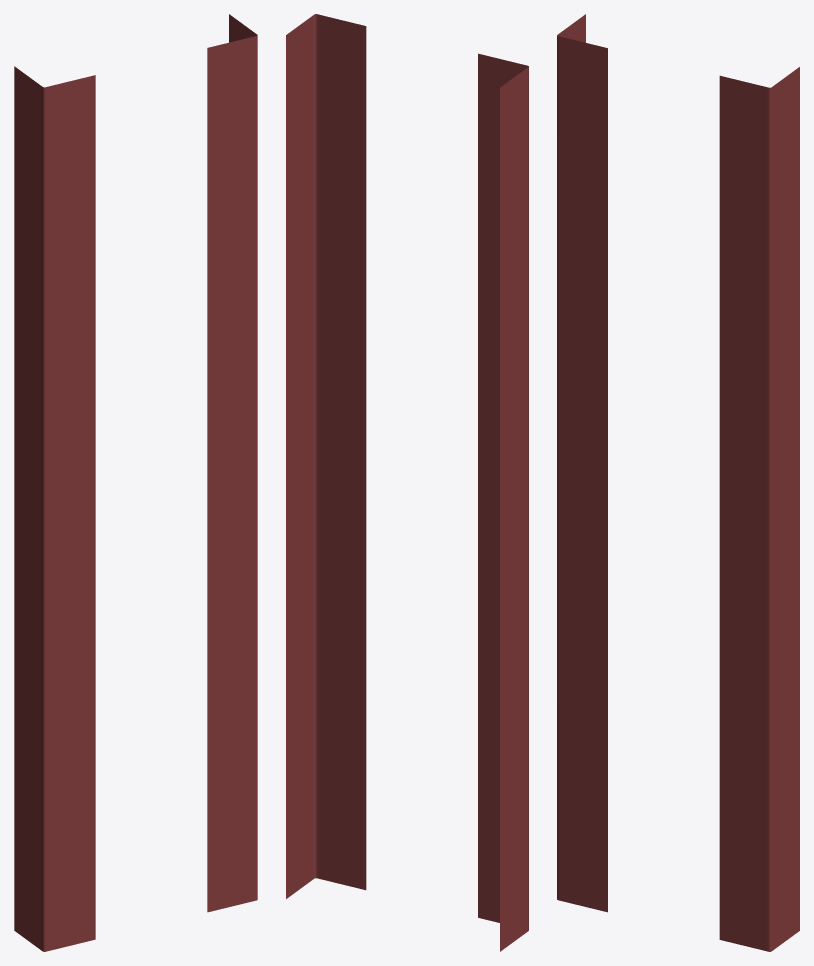
Rendered from Decal_wallIn_C_columnhalf_medium.FBX.
3 renders of one model, left to right at view 1: azimuth 30°, elevation 25°; view 2: azimuth 150°, elevation 25°; view 3: azimuth 330°, elevation 25°, orthographic.
Parts seen in each view (by area): view 1: Decal_wallIn_C_columnhalf_medium; view 2: Decal_wallIn_C_columnhalf_medium; view 3: Decal_wallIn_C_columnhalf_medium.
Boxes of the visible parts, box(x1,y1,x2,y2) form: Decal_wallIn_C_columnhalf_medium: box(14, 14, 257, 951); Decal_wallIn_C_columnhalf_medium: box(286, 14, 528, 951); Decal_wallIn_C_columnhalf_medium: box(557, 14, 799, 951).
Size of the model in its own units: 70.67 by 272 by 16.96.
